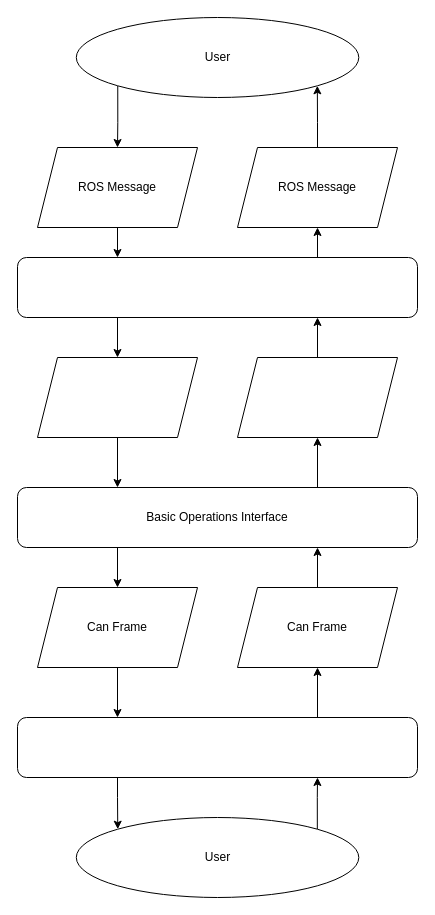
Image size: 435x915. Some labels were removed from this diagram. Here are the shapes that lost their labels. From the top down, the centre of each, then its label:
(x=217, y=287): ROS Interface
(x=117, y=397): Platform Command
(x=317, y=397): Platform Message
(x=217, y=747): CAN bus
